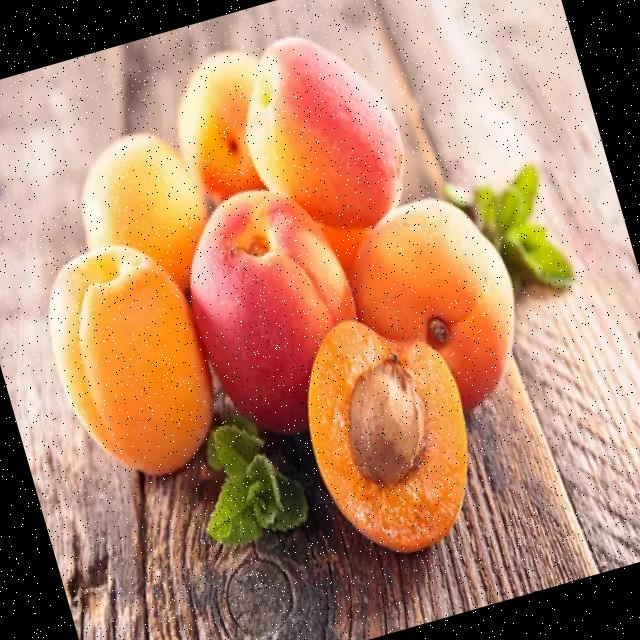Cekirdek: (350, 351, 425, 485)
Kayisi: (51, 244, 212, 472)
Yaprak: (208, 413, 308, 544)
